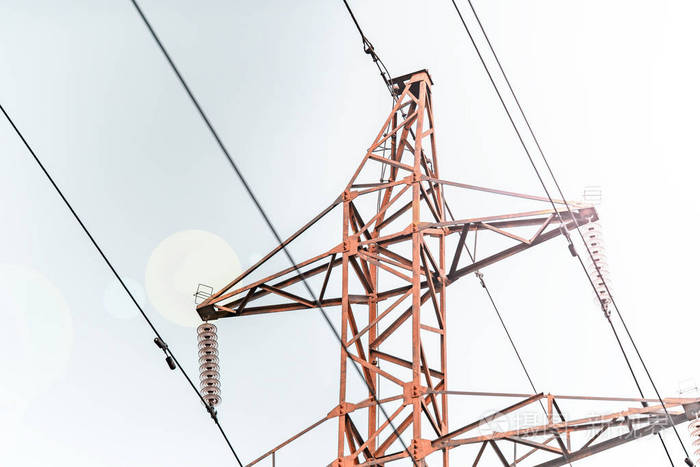insulator: (583, 221, 613, 304), (194, 323, 221, 407), (689, 420, 700, 459)
